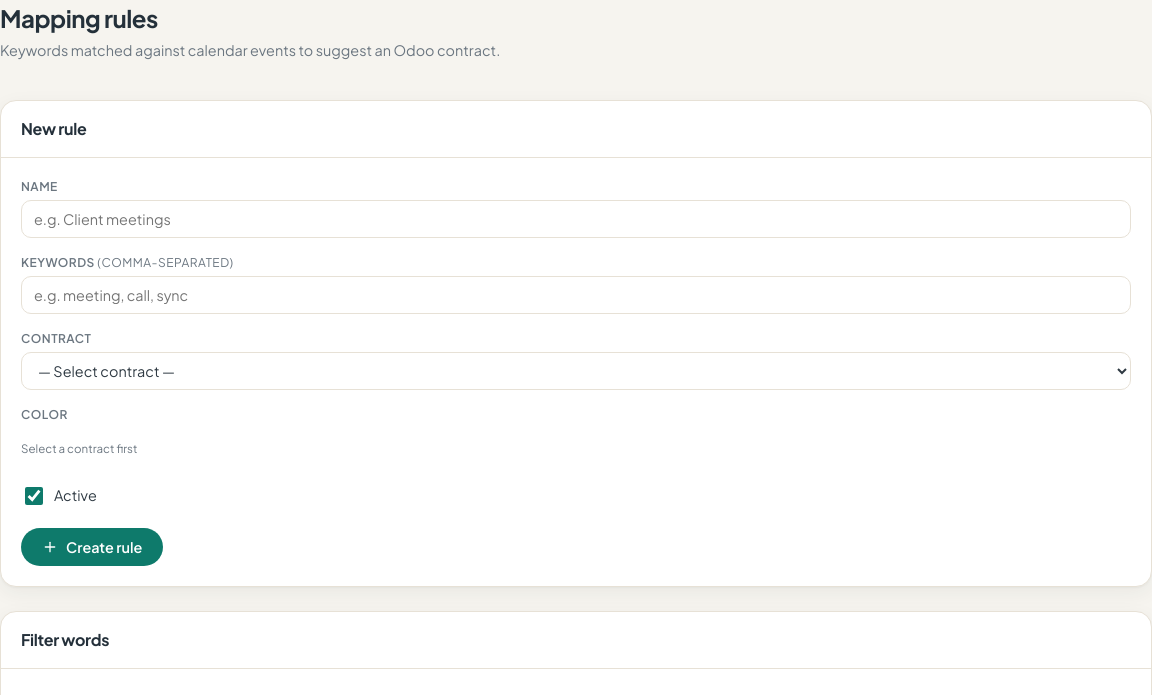
MappingRules page › shows validation error when name is empty on submit
Expected: the button "Create rule" is shown, [21,528,163,566]
// Only fill keywords, leave name empty
Type "meeting" into the field labelled "Keywords (comma-separated)".
click(576, 295); type("meeting")  # box [21,276,1131,314]
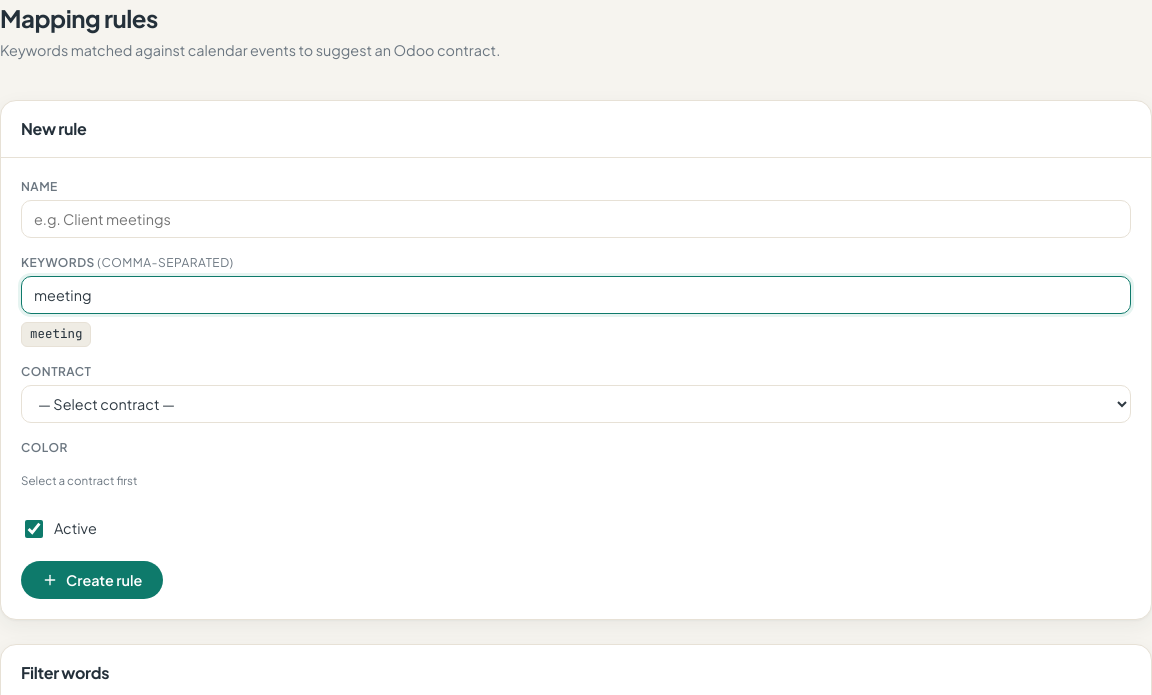
Click the button "Create rule".
click(92, 580)  # box [21,561,163,599]
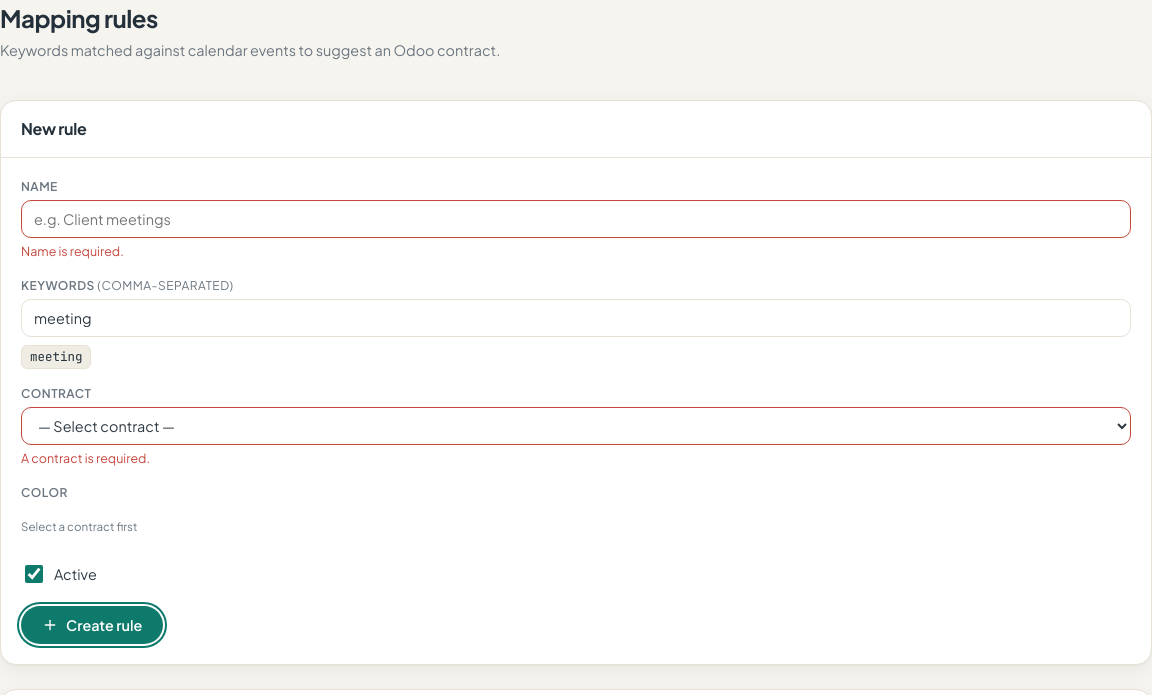
Expected: the text "Name is required." is shown, [21,243,124,259]
